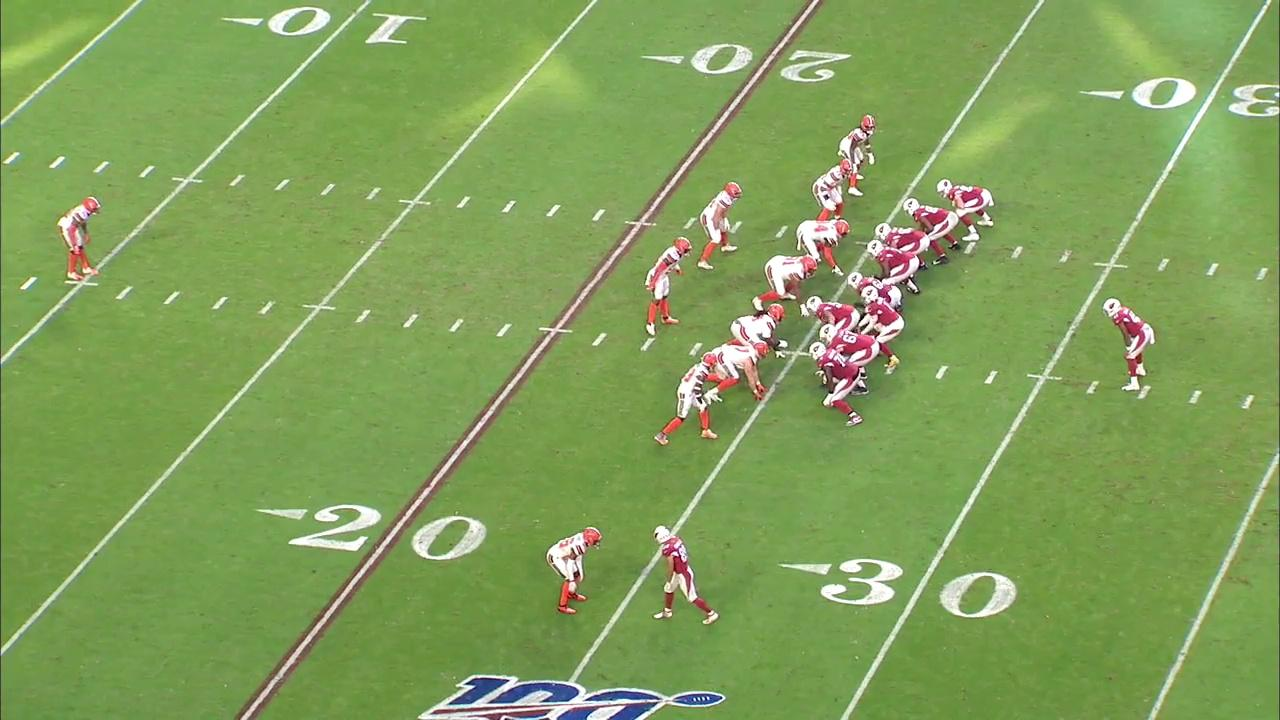player: (646, 520, 718, 628), (657, 346, 719, 450), (1103, 298, 1164, 396), (548, 523, 604, 617), (639, 236, 691, 336), (813, 345, 869, 435), (55, 193, 105, 290), (821, 321, 880, 398), (748, 252, 818, 310), (697, 179, 741, 267), (906, 198, 964, 264), (939, 177, 1000, 236), (708, 342, 770, 400), (724, 304, 789, 359), (861, 289, 904, 372), (790, 219, 850, 275), (866, 240, 921, 295), (839, 116, 877, 193), (875, 221, 930, 271), (814, 160, 855, 220), (809, 293, 856, 328), (850, 273, 900, 302)
